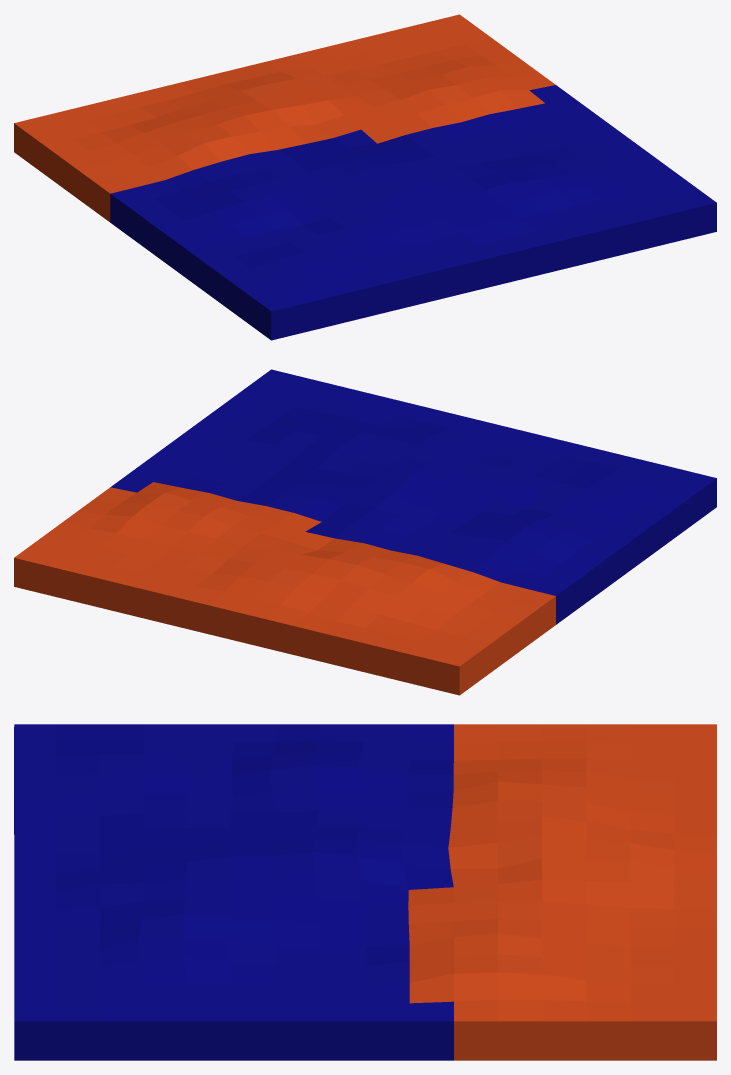
Rendered from WaterSand5.FBX.
3 views of the same model, one above another, from view 1: azimuth 30°, elevation 25°; view 2: azimuth 150°, elevation 25°; view 3: azimuth 270°, elevation 25° (orthographic). The views are drawn at different scales.
Visible parts, largest first — view 1: Terrain.044; view 2: Terrain.044; view 3: Terrain.044.
Boxes of the visible parts, bbox=[...] form: Terrain.044: bbox=[14, 14, 716, 340]; Terrain.044: bbox=[14, 369, 716, 695]; Terrain.044: bbox=[14, 724, 716, 1060].
Size of the model in its own units: 800 by 800 by 73.49.
